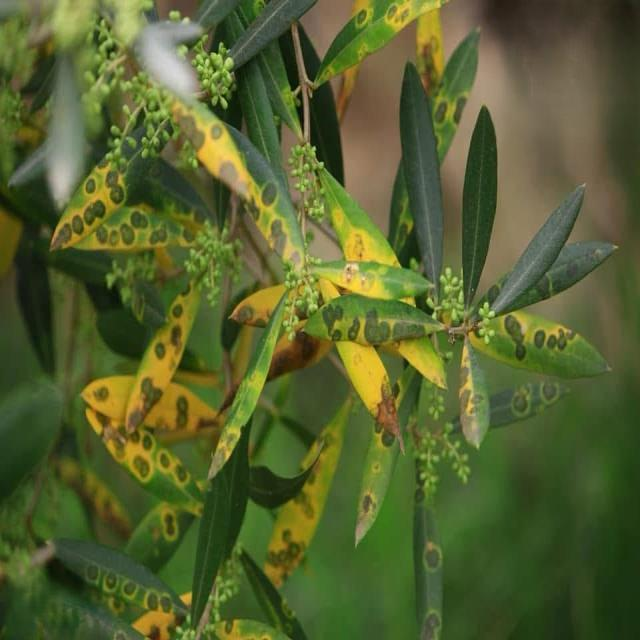Healthy: (399, 63, 443, 295), (462, 106, 497, 308)
Peacock Eye: (207, 287, 297, 480), (263, 396, 352, 586), (51, 121, 171, 251), (86, 409, 205, 516), (312, 0, 448, 88), (123, 280, 199, 433), (48, 539, 189, 618), (229, 125, 306, 268), (471, 310, 611, 380), (303, 295, 443, 347), (70, 204, 199, 253), (413, 471, 443, 639), (311, 260, 433, 298), (489, 379, 567, 428), (459, 339, 490, 449)
